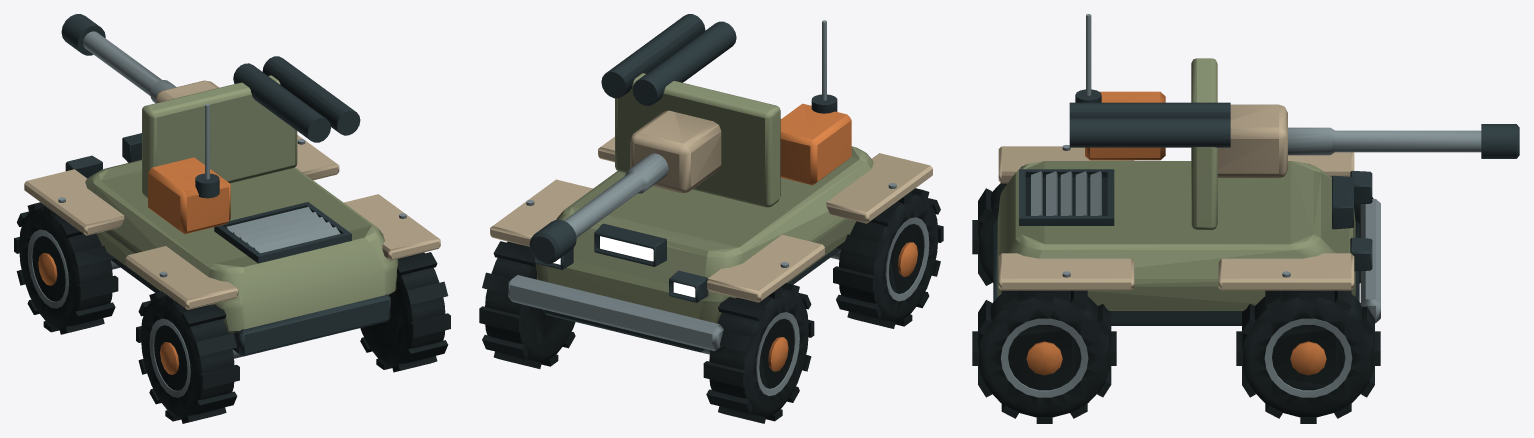
The model's file is JackalRig.glb.
3 views of the same model, side by side, from view 1: azimuth 30°, elevation 25°; view 2: azimuth 150°, elevation 25°; view 3: azimuth 270°, elevation 25° (orthographic). The views are drawn at different scales.
Parts seen in each view (by area): view 1: export_JackalRig_Axle, export_JackalRig_GunShield, export_JackalRig_Wheel_-0.90_-0.90_Tire, export_JackalRig_Wheel_-0.90_0.90_Tire, export_JackalRig_Wheel_0.90_-0.90_Tire, export_JackalRig_Mantlet; view 2: export_JackalRig_Axle, export_JackalRig_GunShield, export_JackalRig_Wheel_-0.90_0.90_Tire, export_JackalRig_Wheel_-0.90_-0.90_Tire, export_JackalRig_Mantlet, export_JackalRig_Wheel_0.90_0.90_Tire; view 3: export_JackalRig_Axle, export_JackalRig_Wheel_0.90_-0.90_Tire, export_JackalRig_Wheel_0.90_0.90_Tire, export_JackalRig_GunShield, export_JackalRig_Mantlet, export_JackalRig_Wheel_-0.90_-0.90_Tire.
Part boxes in pixels (x1,y1,x2,y2): export_JackalRig_Axle: (24,133,440,358); export_JackalRig_GunShield: (142,56,360,234); export_JackalRig_Wheel_-0.90_-0.90_Tire: (136,291,239,423); export_JackalRig_Wheel_-0.90_0.90_Tire: (14,202,118,334); export_JackalRig_Wheel_0.90_-0.90_Tire: (360,252,450,372); export_JackalRig_Mantlet: (61,14,219,103); export_JackalRig_Axle: (490,136,932,354); export_JackalRig_GunShield: (601,14,851,207); export_JackalRig_Wheel_-0.90_0.90_Tire: (703,283,814,423); export_JackalRig_Wheel_-0.90_-0.90_Tire: (833,188,943,328); export_JackalRig_Mantlet: (529,110,721,263); export_JackalRig_Wheel_0.90_0.90_Tire: (479,241,575,368); export_JackalRig_Axle: (993,144,1380,325); export_JackalRig_Wheel_0.90_-0.90_Tire: (972,290,1116,423); export_JackalRig_Wheel_0.90_0.90_Tire: (1236,290,1380,423); export_JackalRig_GunShield: (1069,58,1230,229); export_JackalRig_Mantlet: (1217,104,1519,177); export_JackalRig_Wheel_-0.90_-0.90_Tire: (972,183,1006,285).
Size of the model in its own units: 2.18 by 2.32 by 3.73.
